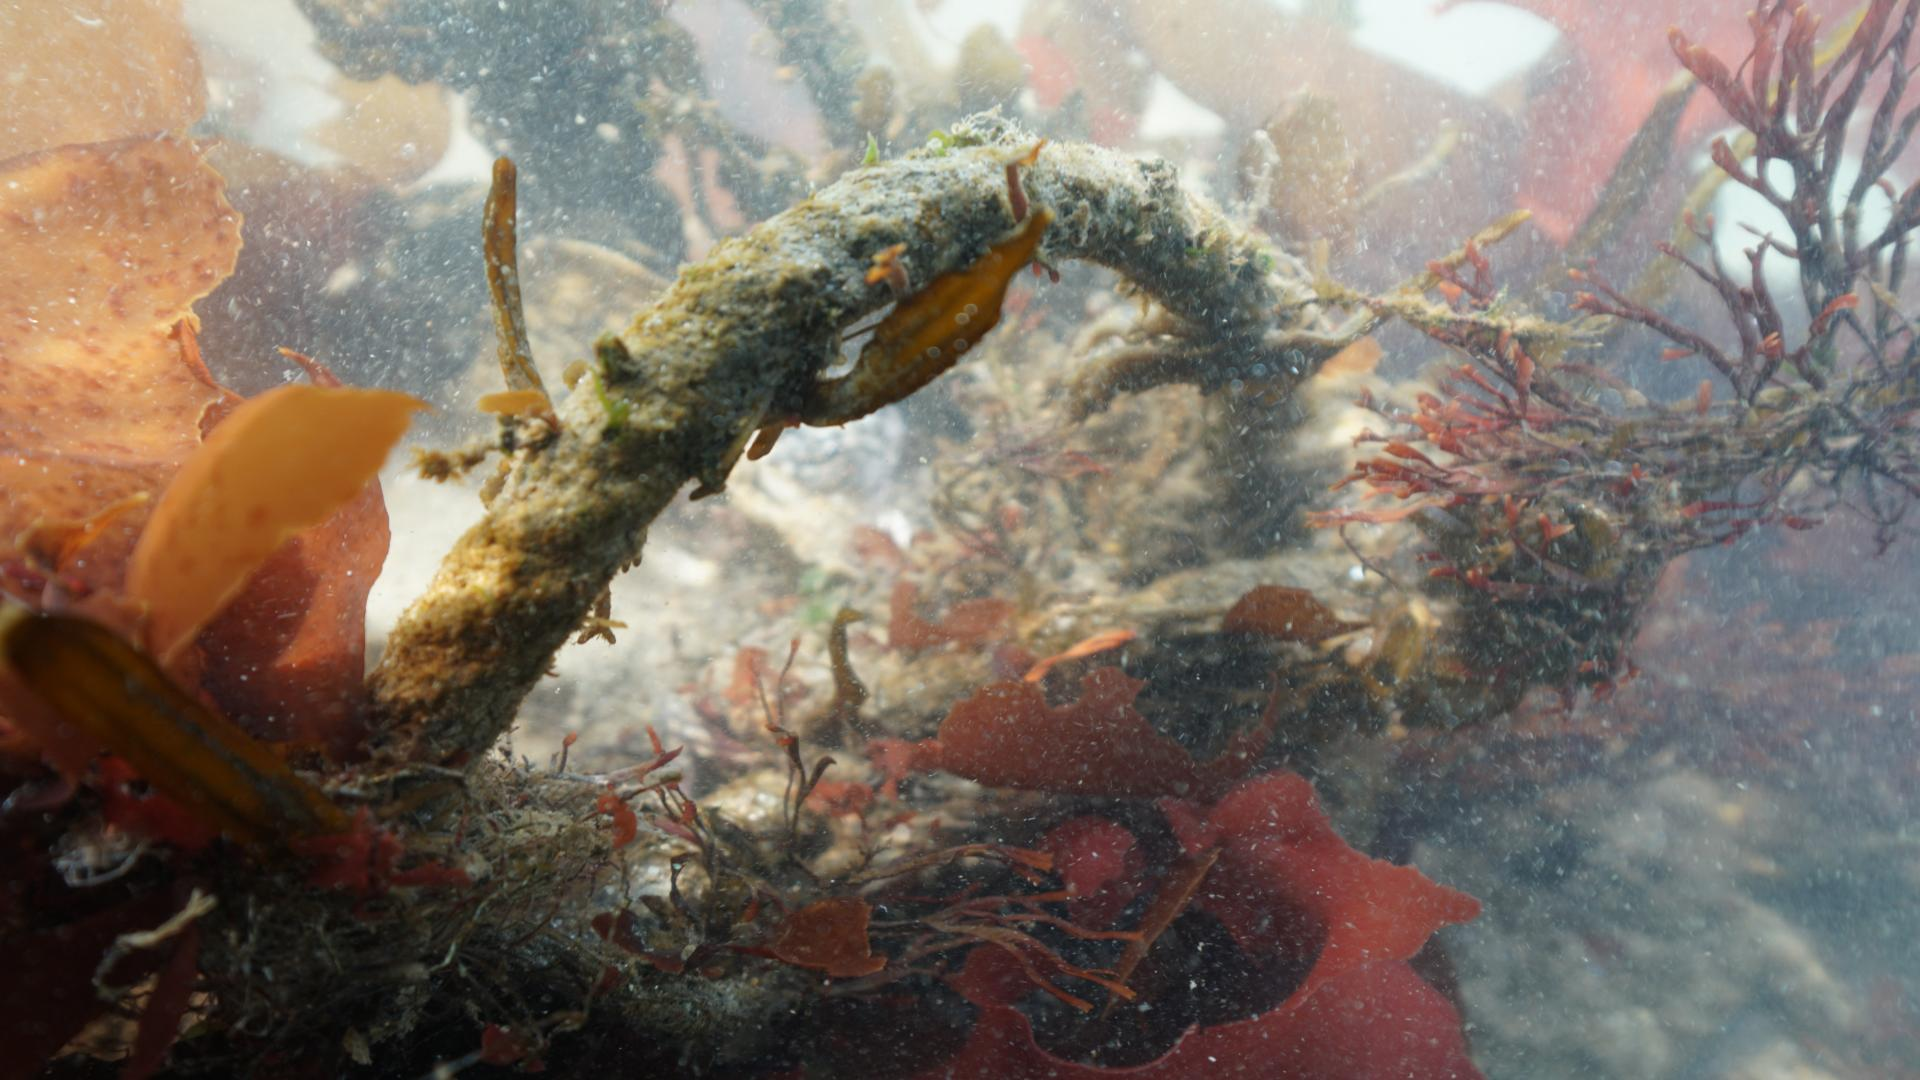rope: (328, 115, 1383, 778)
